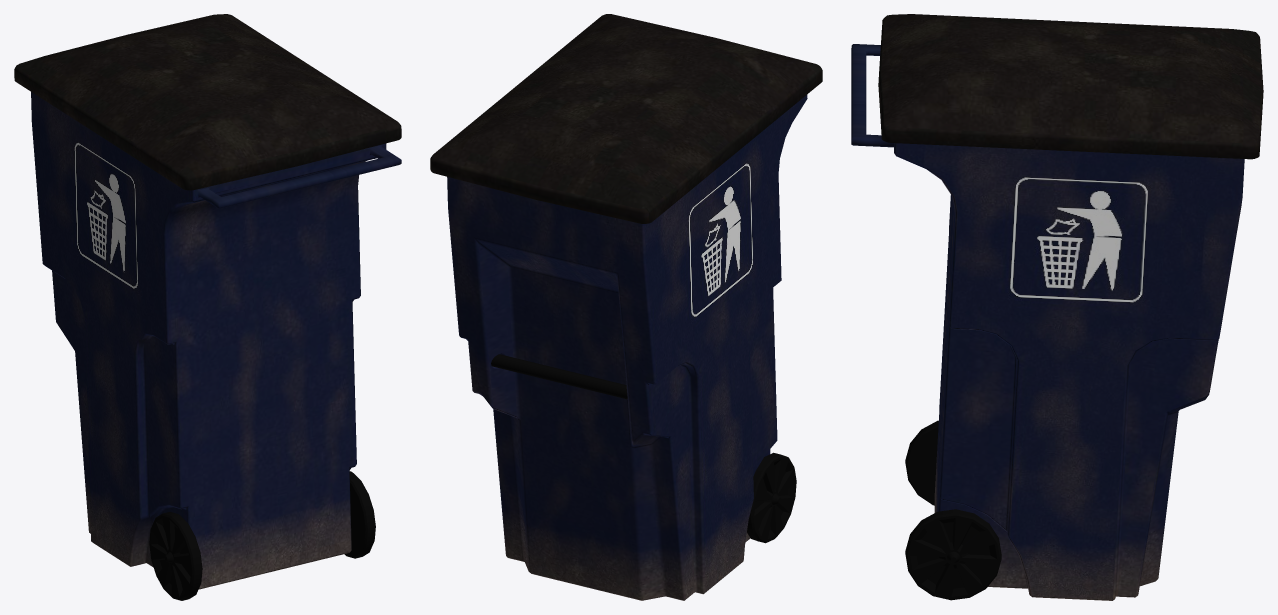
File: Blue waste bin.fbx
3 renders of one model, left to right at view 1: azimuth 30°, elevation 25°; view 2: azimuth 150°, elevation 25°; view 3: azimuth 270°, elevation 25°, orthographic. The views are drawn at different scales.
Parts seen in each view (by area): view 1: Blue waste bin; view 2: Blue waste bin; view 3: Blue waste bin.
Boxes of the visible parts, x1=… form: Blue waste bin: x1=14, y1=14, x2=401, y2=600; Blue waste bin: x1=430, y1=14, x2=822, y2=600; Blue waste bin: x1=851, y1=14, x2=1263, y2=600.
Bounding box in the file's own units: 48.53 × 99.99 × 73.92.
